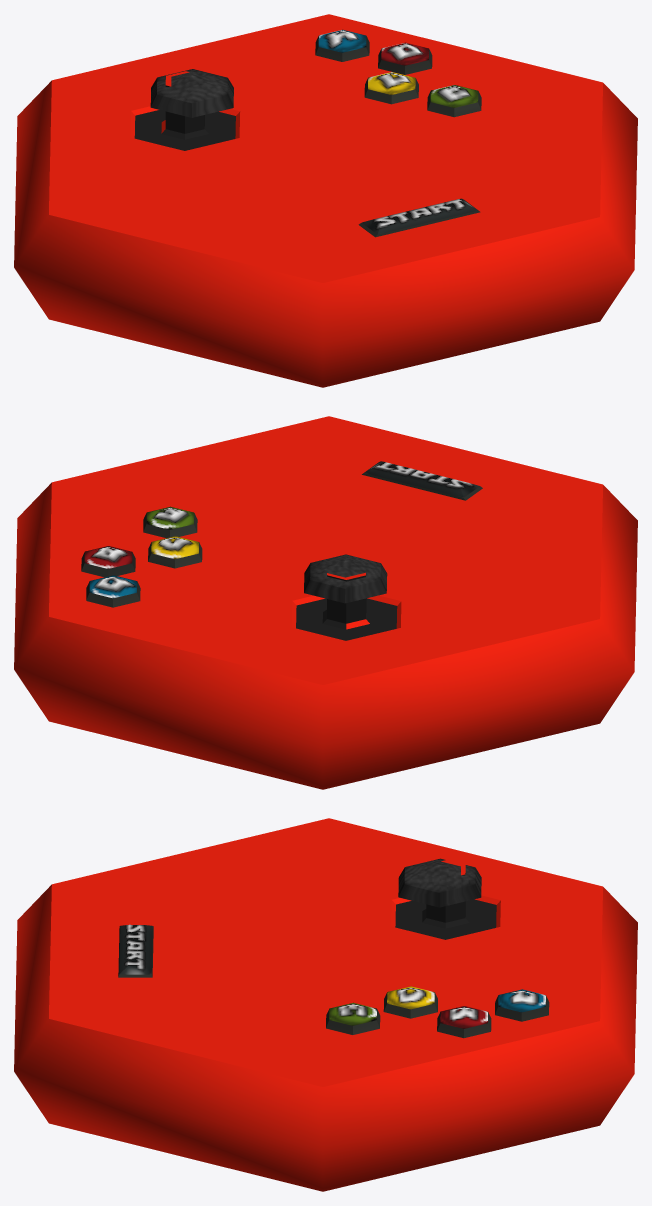
The model's file is Controller_02.FBX.
3 renders of one model, top to bottom at view 1: azimuth 30°, elevation 25°; view 2: azimuth 150°, elevation 25°; view 3: azimuth 270°, elevation 25°, orthographic.
Parts seen in each view (by area): view 1: Controller; view 2: Controller; view 3: Controller.
Boxes of the visible parts, box(x1,y1,x2,y2) form: Controller: box(14, 14, 637, 387); Controller: box(14, 416, 637, 789); Controller: box(14, 818, 637, 1191).
Bounding box in the file's own units: 27.96 × 6.66 × 24.34.
